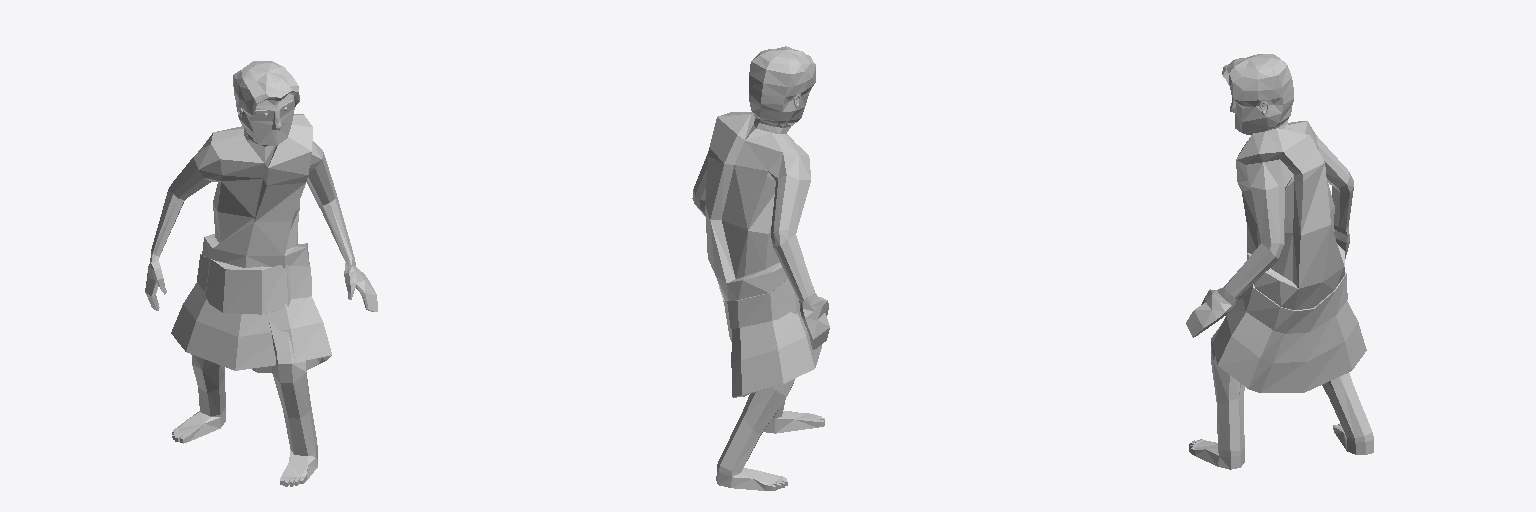
The model's file is Animated Human.obj.
The picture shows the model from 3 angles: view 1: azimuth 30°, elevation 25°; view 2: azimuth 150°, elevation 25°; view 3: azimuth 270°, elevation 25°; orthographic projection.
Visible parts, largest first — view 1: Human_Mesh_Human_CylinderMesh.003, Tunic_Human_CylinderMesh.000, Belt_Human_CylinderMesh.001; view 2: Human_Mesh_Human_CylinderMesh.003, Tunic_Human_CylinderMesh.000, Belt_Human_CylinderMesh.001; view 3: Tunic_Human_CylinderMesh.000, Human_Mesh_Human_CylinderMesh.003, Belt_Human_CylinderMesh.001.
Part boxes in pixels (bbox=[...]): Human_Mesh_Human_CylinderMesh.003: bbox=[145, 61, 377, 486]; Tunic_Human_CylinderMesh.000: bbox=[171, 114, 331, 372]; Belt_Human_CylinderMesh.001: bbox=[197, 254, 311, 314]; Human_Mesh_Human_CylinderMesh.003: bbox=[692, 46, 829, 490]; Tunic_Human_CylinderMesh.000: bbox=[705, 112, 821, 397]; Belt_Human_CylinderMesh.001: bbox=[719, 279, 800, 328]; Tunic_Human_CylinderMesh.000: bbox=[1213, 128, 1366, 392]; Human_Mesh_Human_CylinderMesh.003: bbox=[1186, 54, 1373, 469]; Belt_Human_CylinderMesh.001: bbox=[1238, 272, 1347, 333].
Size of the model in its own units: 2.33 by 5.26 by 2.29.